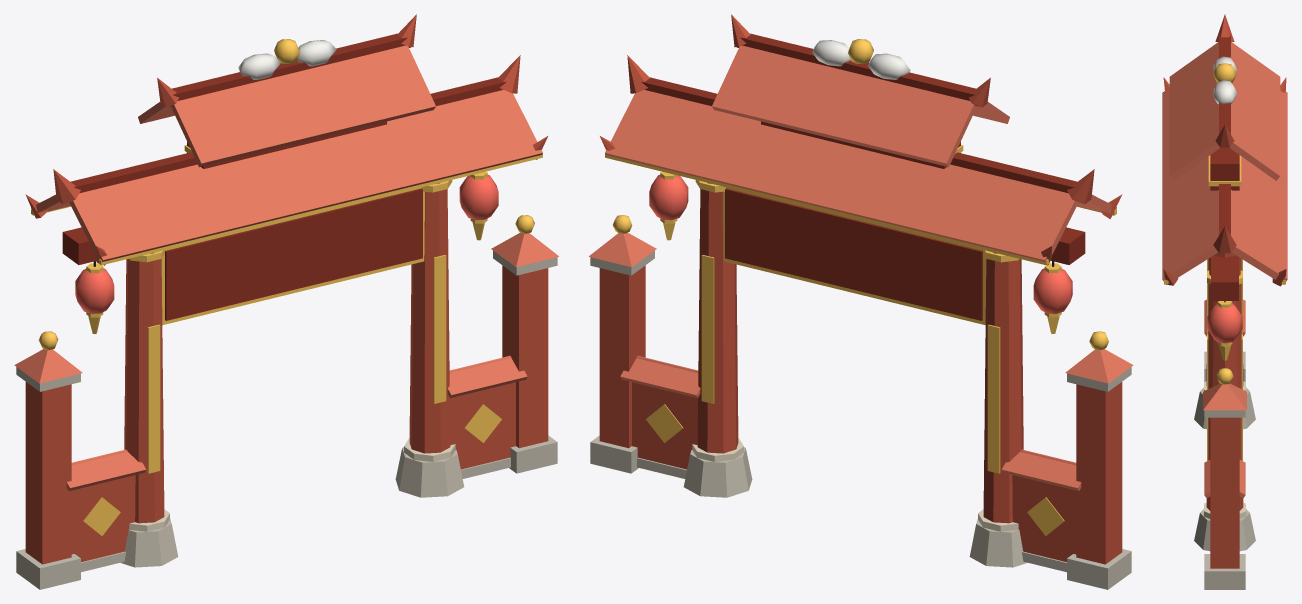
Rendered from cong-lang.glb.
The picture shows the model from 3 angles, left to right: view 1: azimuth 30°, elevation 25°; view 2: azimuth 150°, elevation 25°; view 3: azimuth 270°, elevation 25°; orthographic projection. The views are drawn at different scales.
Parts seen in each view (by area): view 1: cong-lang-2, cong-lang-12, cong-lang-4, cong-lang-14, cong-lang-3, cong-lang-0, cong-lang-17, cong-lang-10, cong-lang-7, cong-lang-15, cong-lang-5, cong-lang-8 (+1 smaller); view 2: cong-lang-2, cong-lang-11, cong-lang-4, cong-lang-13, cong-lang-3, cong-lang-0, cong-lang-17, cong-lang-9, cong-lang-6, cong-lang-15, cong-lang-8, cong-lang-5 (+1 smaller); view 3: cong-lang-2, cong-lang-12, cong-lang-11, cong-lang-13, cong-lang-14, cong-lang-4, cong-lang-0, cong-lang-3, cong-lang-17, cong-lang-8, cong-lang-15, cong-lang-9 (+2 smaller).
Boxes of the visible parts, <box> form: cong-lang-2: <box>25,14,548,564</box>; cong-lang-12: <box>69,90,542,261</box>; cong-lang-4: <box>62,33,506,320</box>; cong-lang-14: <box>171,45,435,167</box>; cong-lang-3: <box>31,39,542,535</box>; cong-lang-0: <box>16,250,557,589</box>; cong-lang-17: <box>75,175,498,313</box>; cong-lang-10: <box>447,356,527,397</box>; cong-lang-7: <box>66,449,146,490</box>; cong-lang-15: <box>238,40,336,79</box>; cong-lang-5: <box>14,349,82,383</box>; cong-lang-8: <box>491,233,558,267</box>; cong-lang-2: <box>599,14,1122,564</box>; cong-lang-11: <box>605,90,1078,261</box>; cong-lang-4: <box>641,33,1085,320</box>; cong-lang-13: <box>712,45,976,167</box>; cong-lang-3: <box>605,39,1116,535</box>; cong-lang-0: <box>590,250,1131,589</box>; cong-lang-17: <box>649,175,1072,313</box>; cong-lang-9: <box>620,356,700,397</box>; cong-lang-6: <box>1001,449,1081,490</box>; cong-lang-15: <box>812,40,910,79</box>; cong-lang-8: <box>589,232,656,267</box>; cong-lang-5: <box>1065,349,1133,383</box>; cong-lang-2: <box>1163,14,1286,568</box>; cong-lang-12: <box>1162,90,1218,283</box>; cong-lang-11: <box>1231,90,1287,281</box>; cong-lang-13: <box>1229,42,1280,180</box>; cong-lang-14: <box>1169,42,1220,180</box>; cong-lang-4: <box>1210,35,1239,300</box>; cong-lang-0: <box>1194,351,1255,589</box>; cong-lang-3: <box>1164,63,1285,460</box>; cong-lang-17: <box>1207,303,1242,343</box>; cong-lang-8: <box>1203,383,1246,410</box>; cong-lang-15: <box>1213,56,1237,104</box>; cong-lang-9: <box>1239,460,1245,498</box>.
Size of the model in its own units: 7.09 by 6.24 by 1.71.
